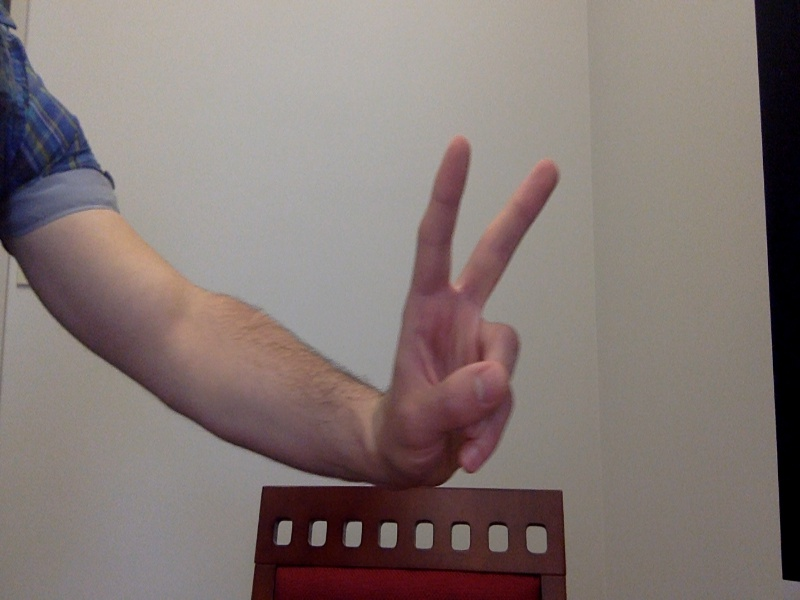2-hand: (386, 134, 567, 488)
